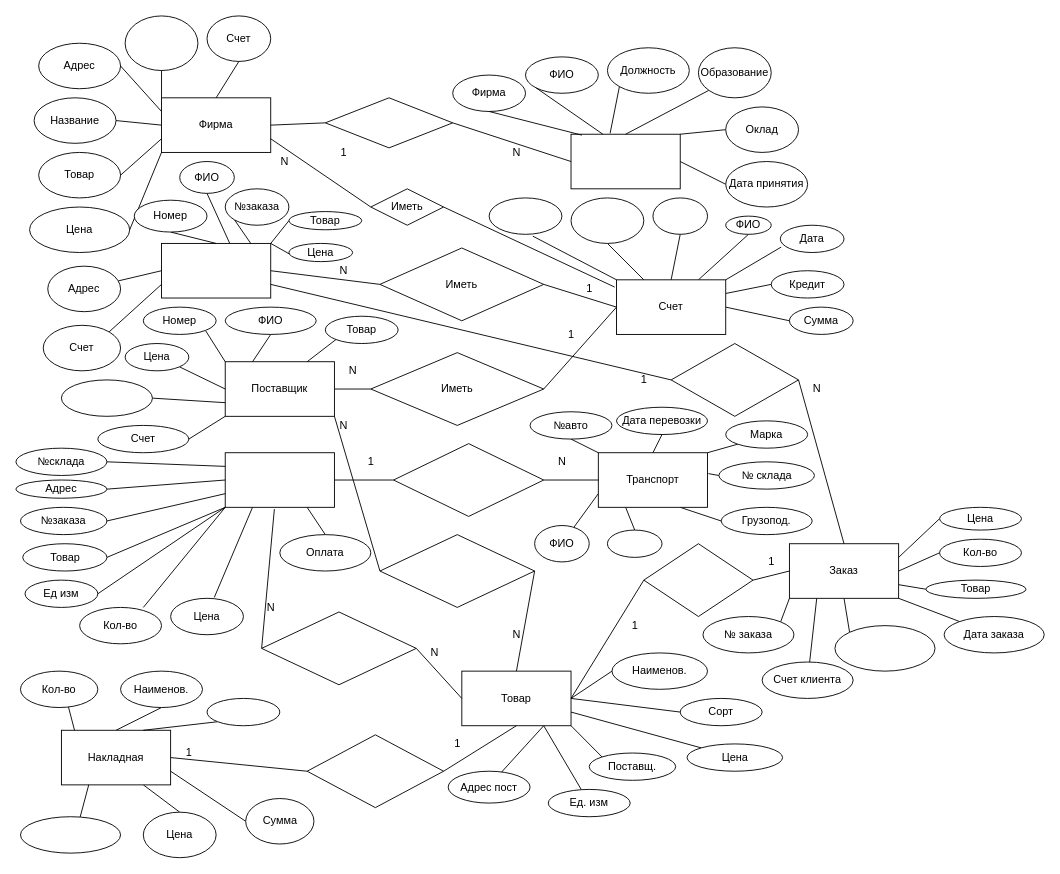
The diagram is 1060 pixels wide and 874 high, and some of its shapes have lost their labels. Here are the shapes that lost their labels. From the top down, the box of each, then its label:
(124, 15, 198, 71): Телефон
(324, 97, 453, 148): Работать
(570, 133, 680, 189): Кадры
(488, 197, 562, 234): Состояние
(570, 197, 644, 243): Банк
(652, 197, 708, 234): №счета
(161, 243, 271, 298): Клиент
(61, 379, 152, 416): Юр. адрес
(670, 343, 799, 416): Заказывать
(224, 452, 334, 507): Склад
(393, 443, 544, 516): Принадлежать
(607, 529, 662, 557): Год
(379, 534, 535, 607): Поставляет
(643, 543, 753, 617): Включаться
(261, 611, 416, 685): Храниться
(834, 625, 935, 671): ФИО клиента
(206, 698, 280, 726): Ед. Изм.
(306, 734, 444, 808): Учитываться
(20, 816, 121, 853): № наклад.
